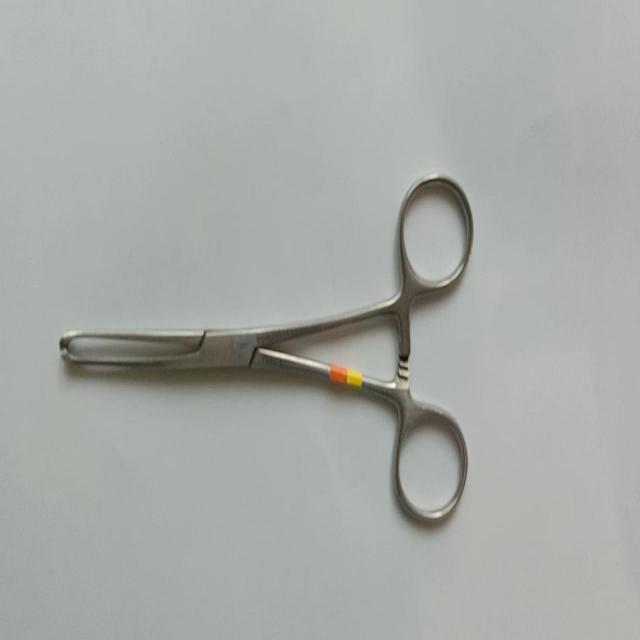AllisForcep: (59, 173, 474, 529)
